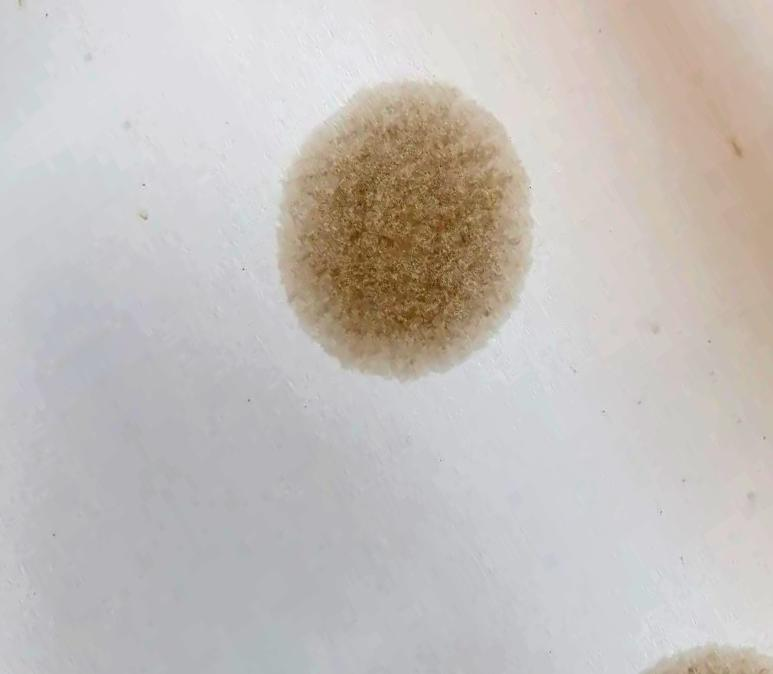stain: (268, 76, 542, 385), (639, 637, 773, 674)
